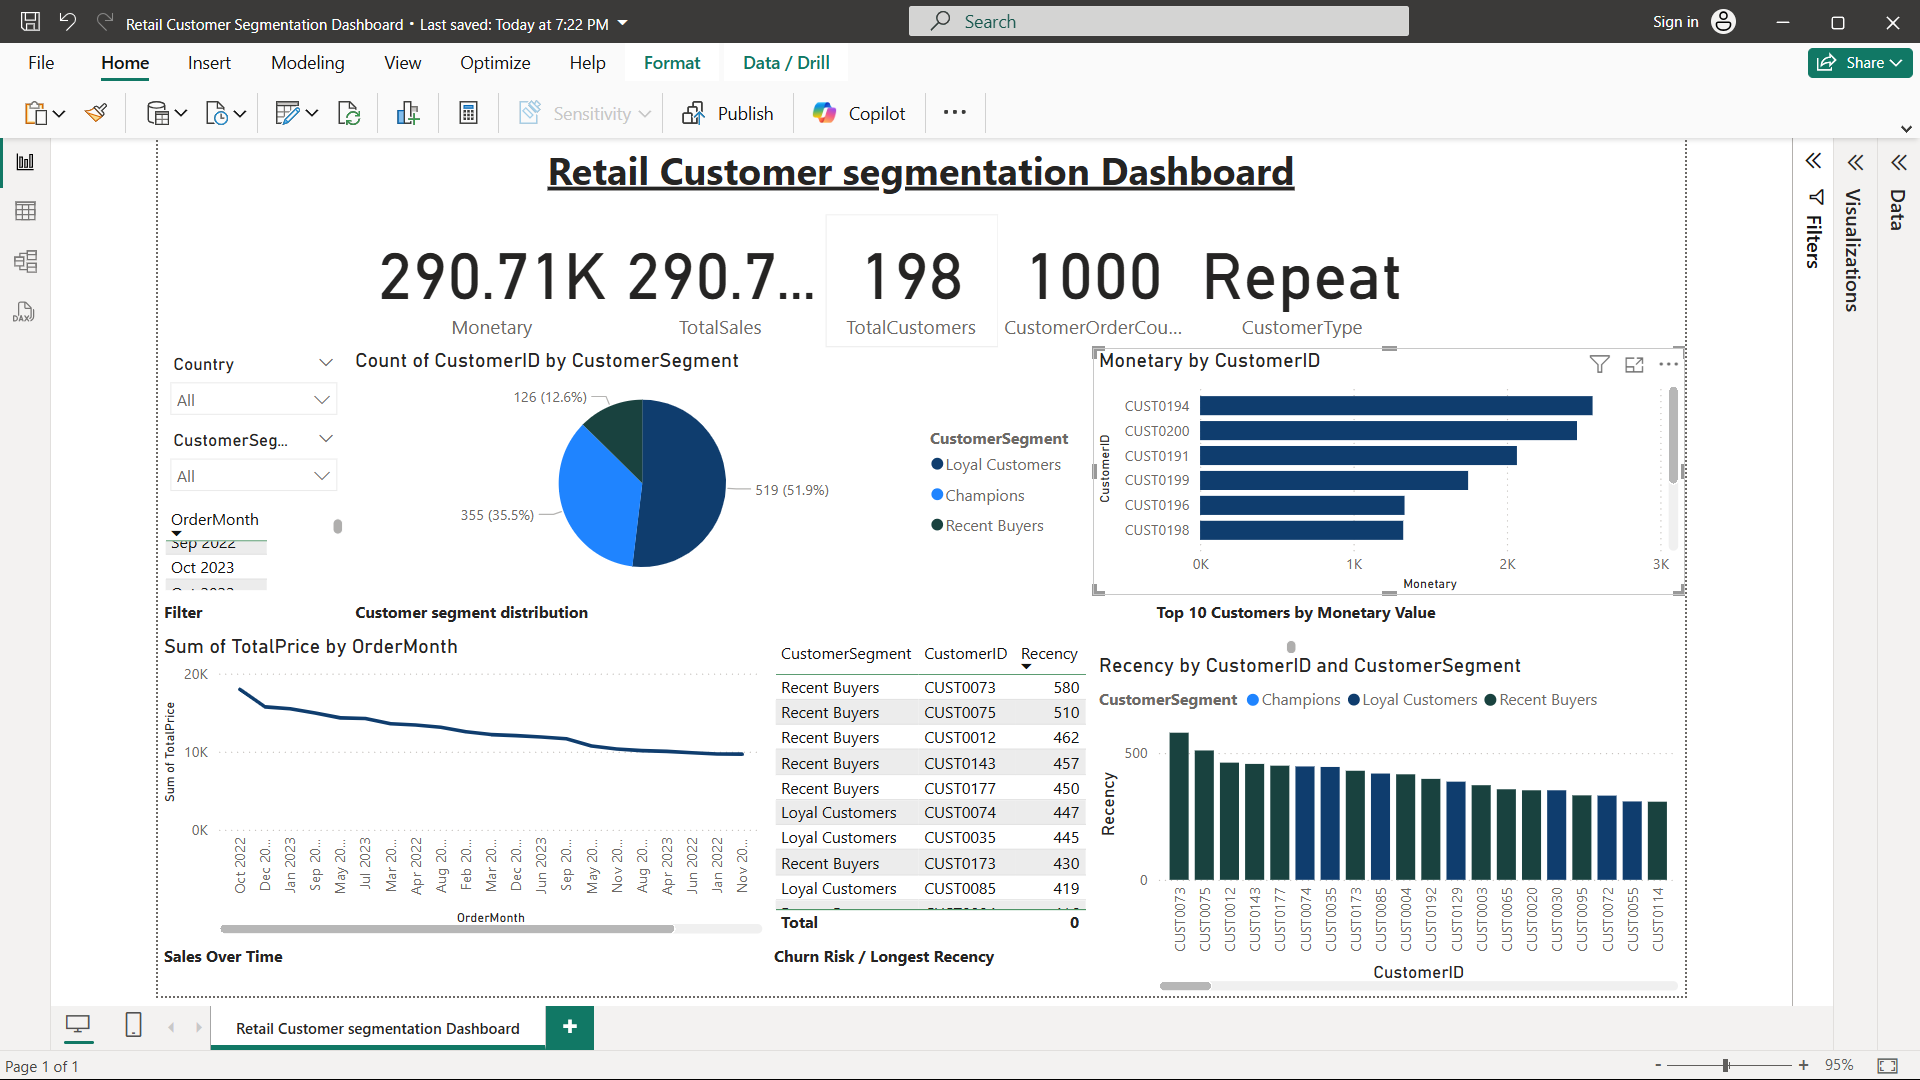

Layout of this report page (visuals, bound fields, positions):
{"tool":"powerbi","page":{"name":"Retail Customer segmentation Dashboard","canvas":[1280,720],"ordinal":0},"visuals":[{"type":"pieChart","fields":{"Category":["Sheet1.CustomerSegment"],"Y":["CountNonNull(Sheet1.CustomerID)"]},"box":[160,176,672,208],"z":0},{"type":"textbox","box":[160,384,672,32],"z":1},{"type":"textbox","box":[832,384,448,32],"z":2},{"type":"barChart","fields":{"Category":["Sheet1.CustomerID"],"Y":["Sheet1.Monetary"]},"box":[832,176,448,208],"z":3},{"type":"lineChart","fields":{"Category":["Sheet1.OrderMonth"],"Y":["Sum(Sheet1.TotalPrice)"]},"box":[0,416,512,256],"z":4},{"type":"textbox","box":[0,672,512,32],"z":5},{"type":"tableEx","fields":{"Values":["Sheet1.CustomerSegment","Sheet1.CustomerID","Sheet1.Recency"]},"box":[512,416,448,256],"z":6},{"type":"textbox","box":[512,672,448,32],"z":7},{"type":"columnChart","fields":{"Y":["Sheet1.Recency"],"Category":["Sheet1.CustomerID"],"Series":["Sheet1.CustomerSegment"]},"box":[960,416,320,288],"z":8},{"type":"slicer","fields":{"Values":["Sheet1.Country"]},"box":[0,176,160,64],"z":9},{"type":"tableEx","fields":{"Values":["Sheet1.OrderMonth"]},"box":[0,304,160,80],"z":10},{"type":"slicer","fields":{"Values":["Sheet1.CustomerSegment"]},"box":[0,240,160,64],"z":11},{"type":"textbox","box":[0,384,160,32],"z":12},{"type":"card","fields":{"Values":["Sheet1.Monetary"]},"box":[176,64,208,112],"z":13},{"type":"card","fields":{"Values":["Sheet1.TotalCustomers"]},"box":[560,64,144,112],"z":14},{"type":"card","fields":{"Values":["Sheet1.TotalSales"]},"box":[384,64,176,112],"z":15},{"type":"card","fields":{"Values":["Sheet1.AverageRecency"]},"box":[704,64,160,112],"z":16},{"type":"card","fields":{"Values":["Sheet1.CustomerType"]},"box":[864,64,192,112],"z":17},{"type":"textbox","box":[0,0,1280,64],"z":18}]}

Visuals, with their boxes on the page's 1280x720 design canvas (x1, y1, x2, y2). These are canvas units, not pixel positions in the 1920x1080 screenshot, which may show the page scaled, cropped or inside an application window:
pieChart - Sheet1.CustomerSegment x CountNonNull(Sheet1.CustomerID): box=[160, 176, 832, 384]
textbox: box=[160, 384, 832, 416]
textbox: box=[832, 384, 1280, 416]
barChart - Sheet1.CustomerID x Sheet1.Monetary: box=[832, 176, 1280, 384]
lineChart - Sheet1.OrderMonth x Sum(Sheet1.TotalPrice): box=[0, 416, 512, 672]
textbox: box=[0, 672, 512, 704]
tableEx - Sheet1.CustomerSegment x Sheet1.CustomerID: box=[512, 416, 960, 672]
textbox: box=[512, 672, 960, 704]
columnChart - Sheet1.Recency x Sheet1.CustomerID: box=[960, 416, 1280, 704]
slicer - Sheet1.Country: box=[0, 176, 160, 240]
tableEx - Sheet1.OrderMonth: box=[0, 304, 160, 384]
slicer - Sheet1.CustomerSegment: box=[0, 240, 160, 304]
textbox: box=[0, 384, 160, 416]
card - Sheet1.Monetary: box=[176, 64, 384, 176]
card - Sheet1.TotalCustomers: box=[560, 64, 704, 176]
card - Sheet1.TotalSales: box=[384, 64, 560, 176]
card - Sheet1.AverageRecency: box=[704, 64, 864, 176]
card - Sheet1.CustomerType: box=[864, 64, 1056, 176]
textbox: box=[0, 0, 1280, 64]
